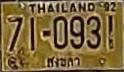0: (53, 15, 67, 48)
1: (29, 17, 34, 50), (108, 15, 113, 48)
3: (86, 15, 100, 48)
7: (8, 16, 22, 50)
9: (70, 15, 84, 48)
SKA: (46, 54, 81, 68)
